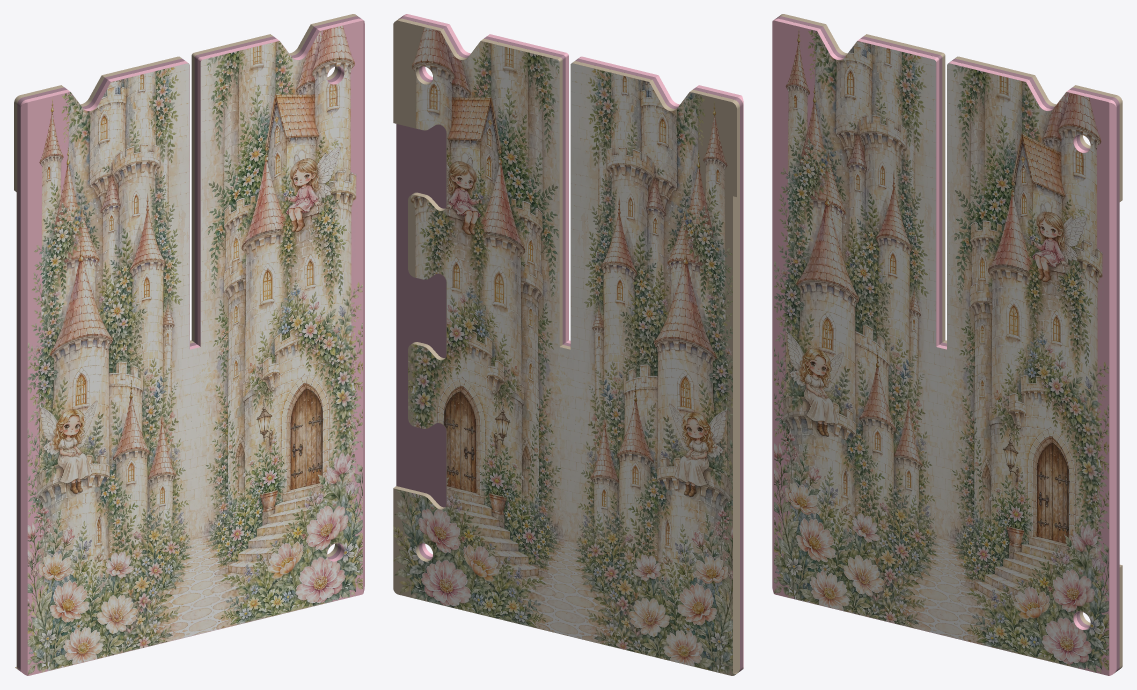
The model's file is p003-linked.glb.
3 views of the same model, side by side, from view 1: azimuth 30°, elevation 25°; view 2: azimuth 150°, elevation 25°; view 3: azimuth 330°, elevation 25° (orthographic).
Visible parts, largest first — view 1: p003-linked; view 2: p003-linked; view 3: p003-linked.
Boxes of the visible parts, box(x1,y1,x2,y2) form: p003-linked: box(14, 14, 364, 675); p003-linked: box(393, 14, 743, 675); p003-linked: box(772, 14, 1122, 675).
Size of the model in its own units: 580 by 925 by 27.
Materials: 5 (2 with a texture image).
